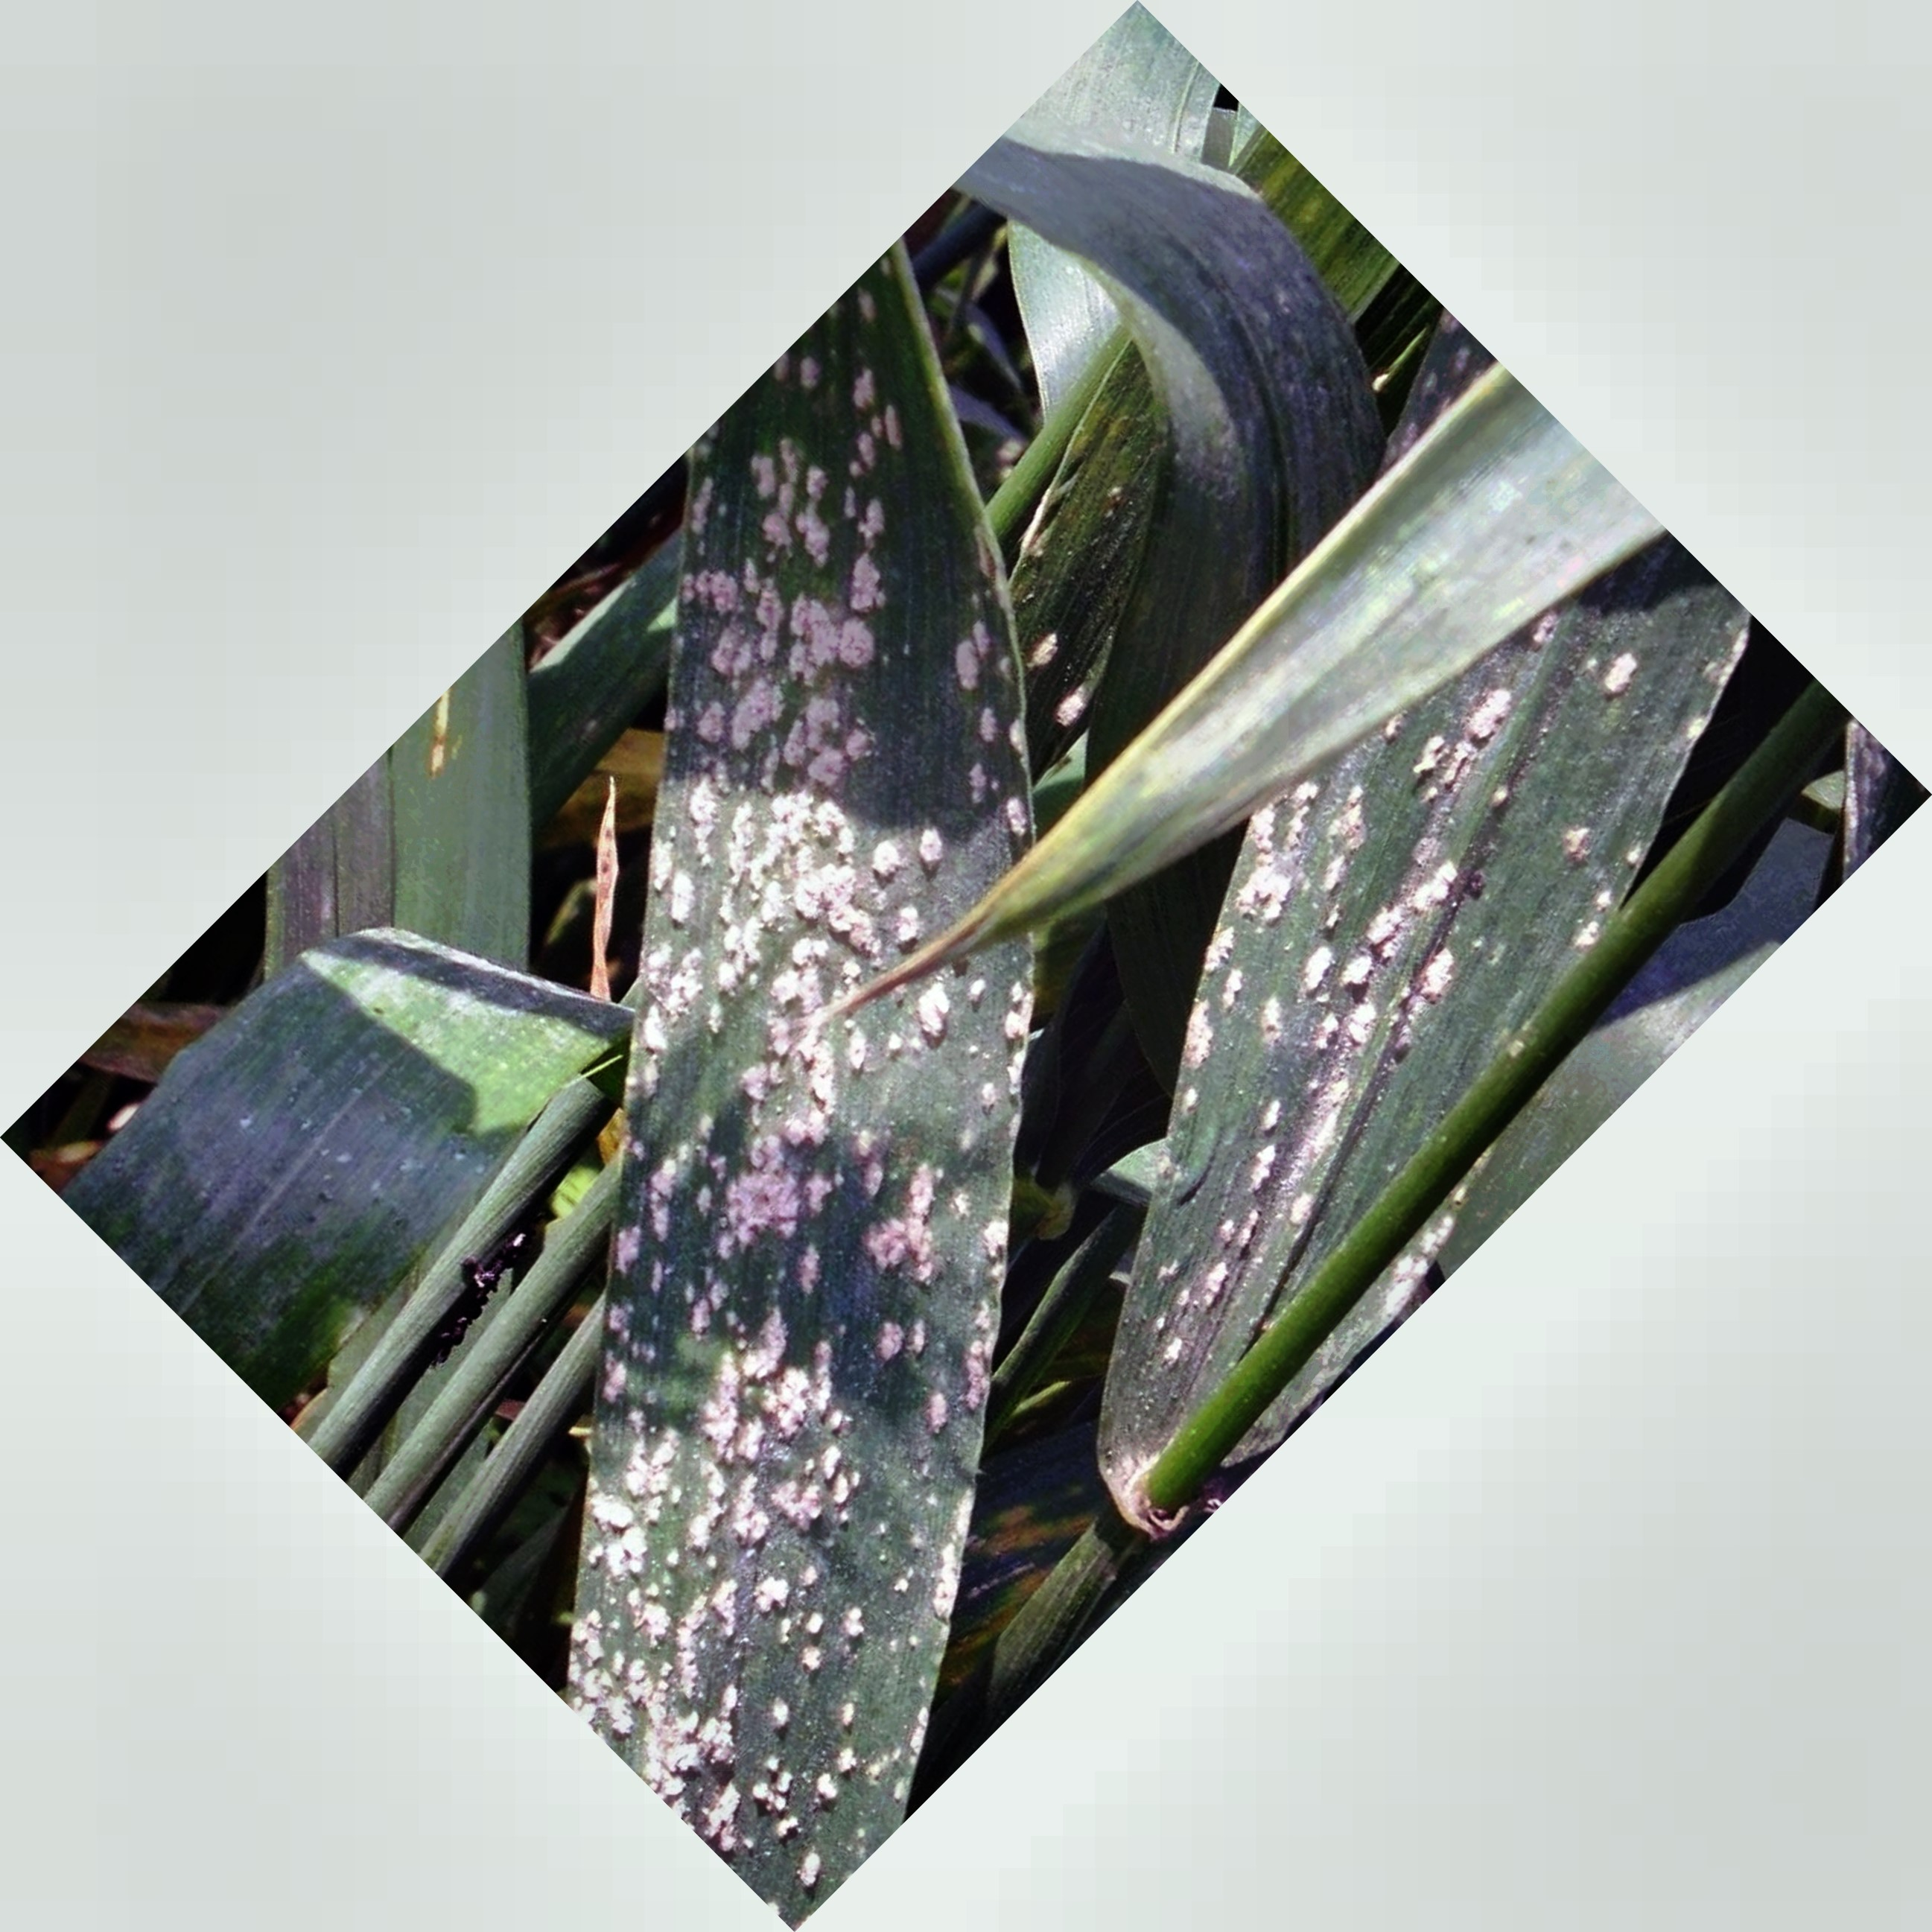Powdery Mildew: (596, 432, 1028, 1769)
